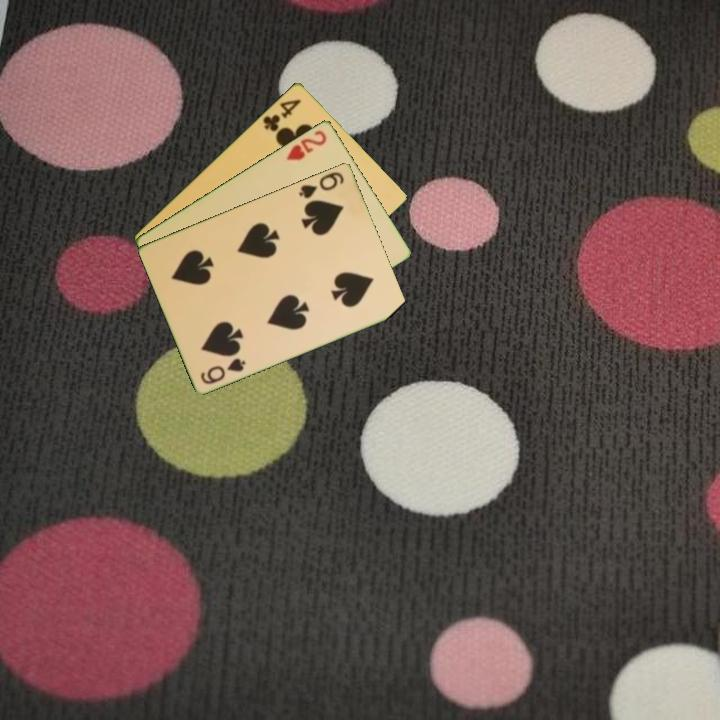2h: (283, 126, 330, 163)
4c: (259, 95, 304, 134)
6s: (295, 168, 347, 201), (197, 354, 248, 387)
